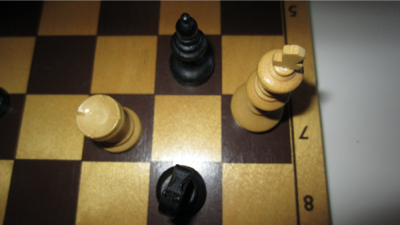black-bishop: (169, 13, 216, 88)
black-knight: (155, 164, 209, 220)
white-king: (230, 44, 307, 135)
white-rook: (76, 94, 145, 155)
